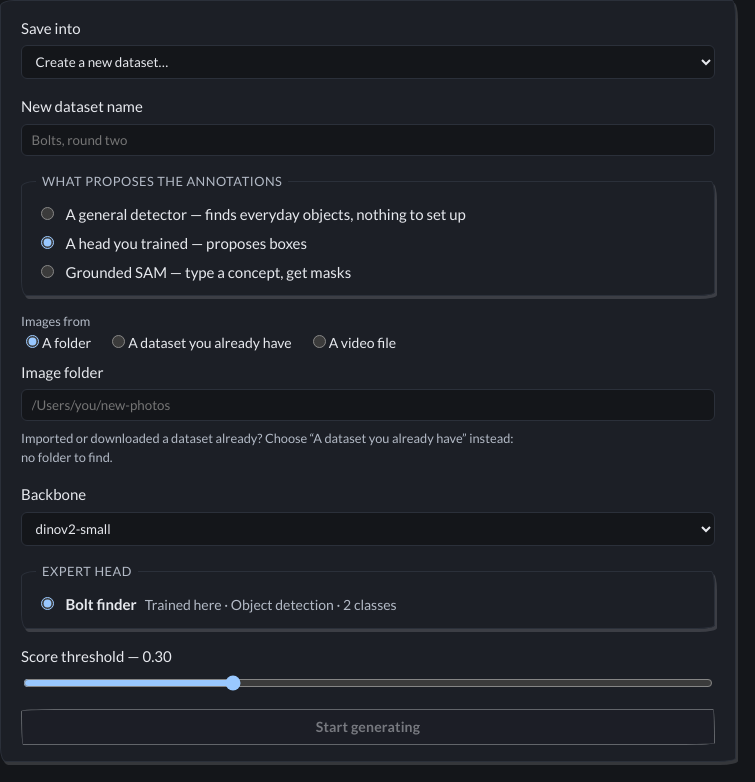
Test: saying what will be saved (doc 67) › tells a detector run it saves boxes
Expected: the radio button labelled "Bolt finder Trained here · Object detection · 2 classes" is shown, [41, 597, 54, 610]
Click the radio button labelled "general detector": point(48, 214) [41, 207, 54, 220]
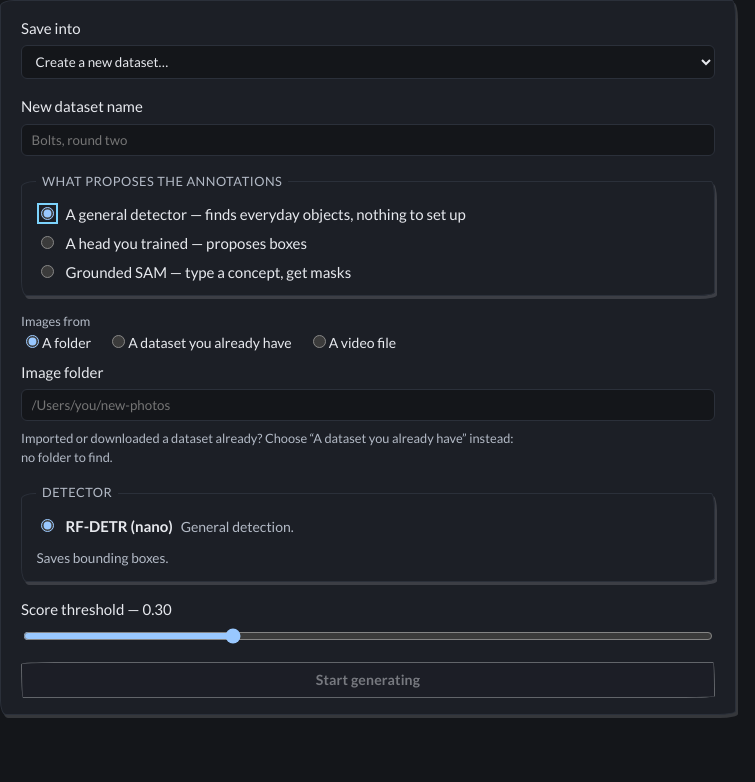
Expected: the text "Saves bounding boxes." is shown, [36, 550, 168, 566]
